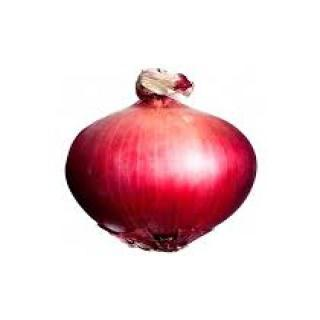Bawang Merah: (60, 65, 260, 255)
